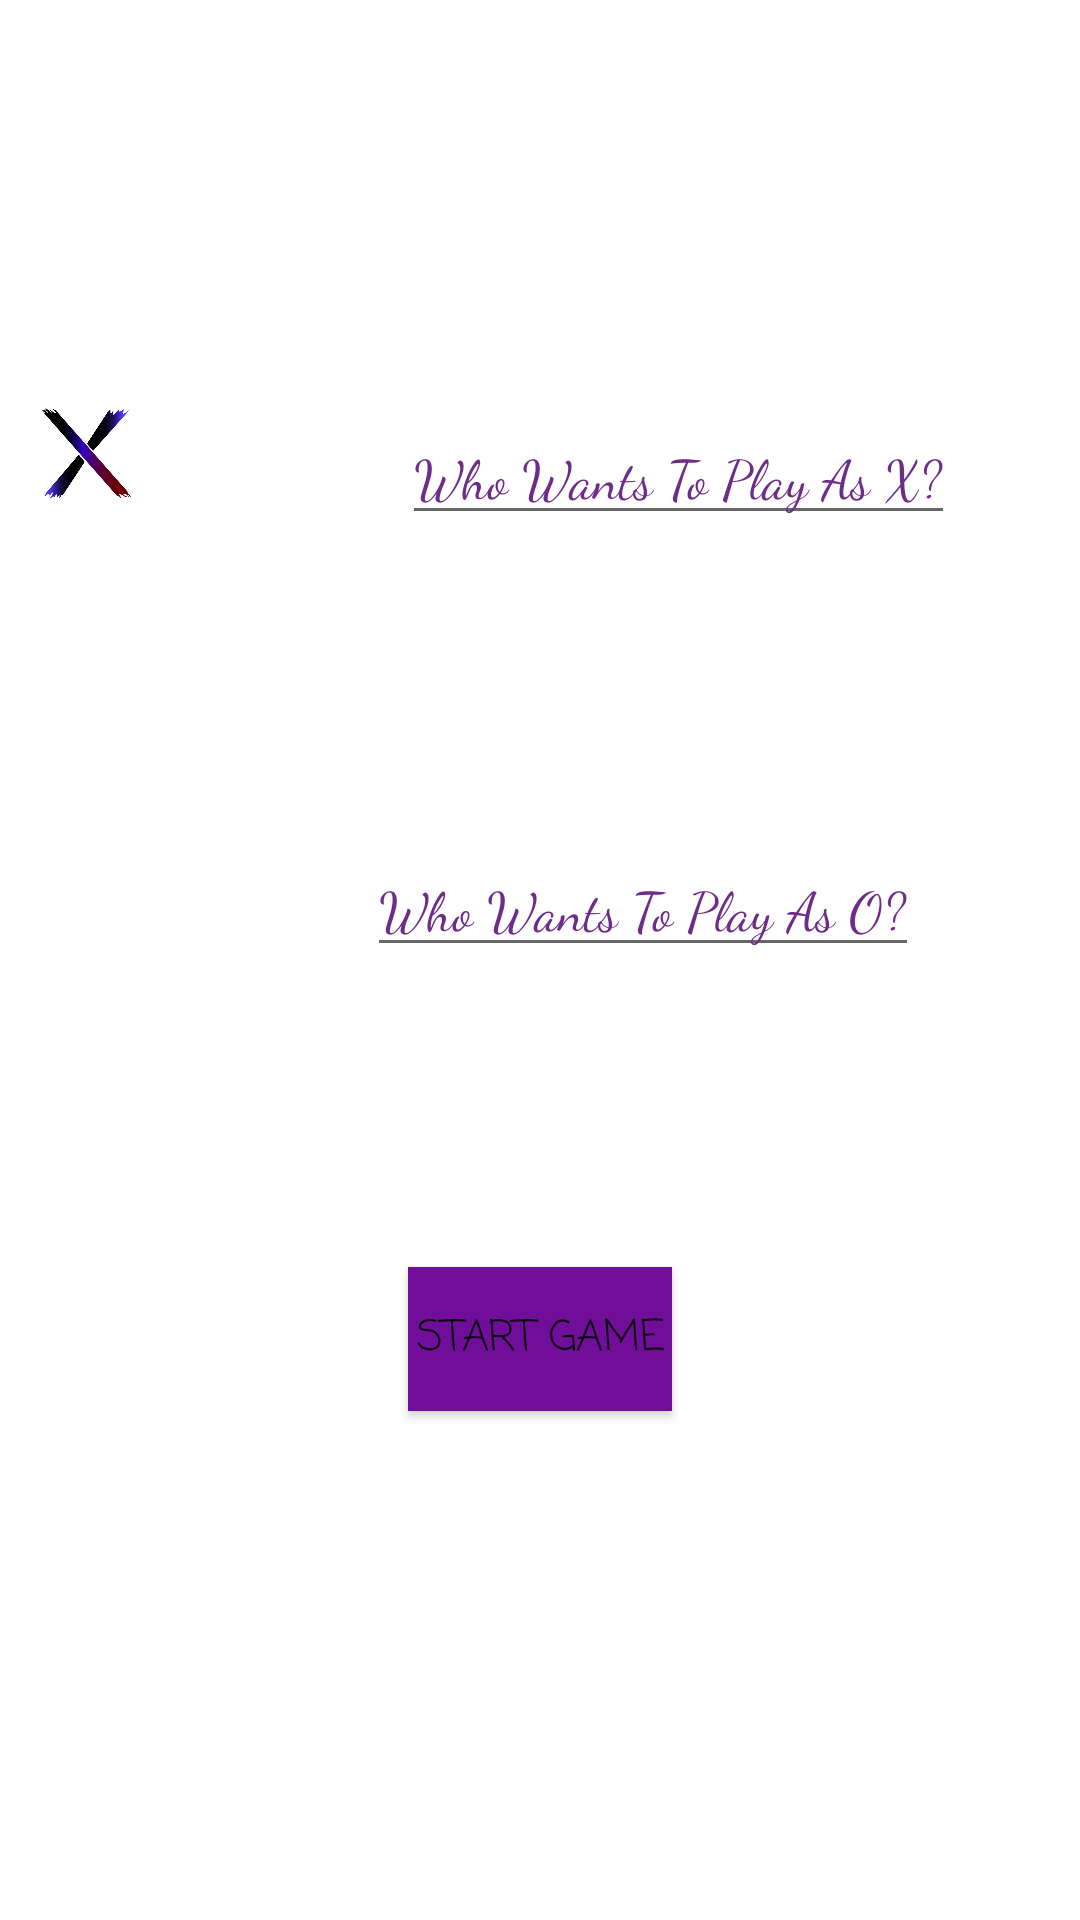

Named icons in this screenshot (1080x1920) and their bounding boxes, (x1, y1, x2, y2):
ximage: (42, 408, 131, 498)
